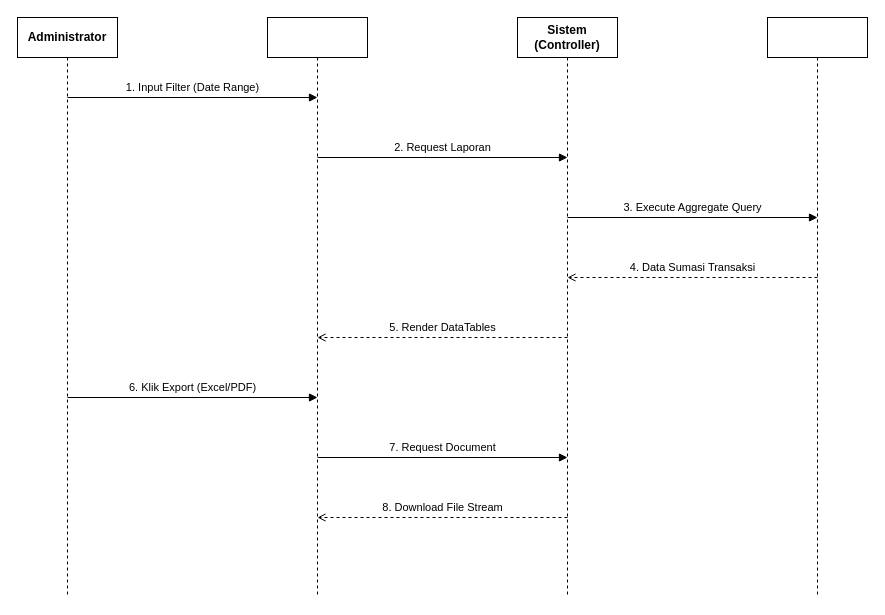
Some shapes in this 885 by 615 pixel diagram are drawn without their labels. The shapes that lost their labels are listed below. From the top down, each one's box as (x1, y1, x2, y2) in pixels, then its label:
(266, 16, 368, 598): Sistem (UI)
(766, 16, 868, 598): Database
